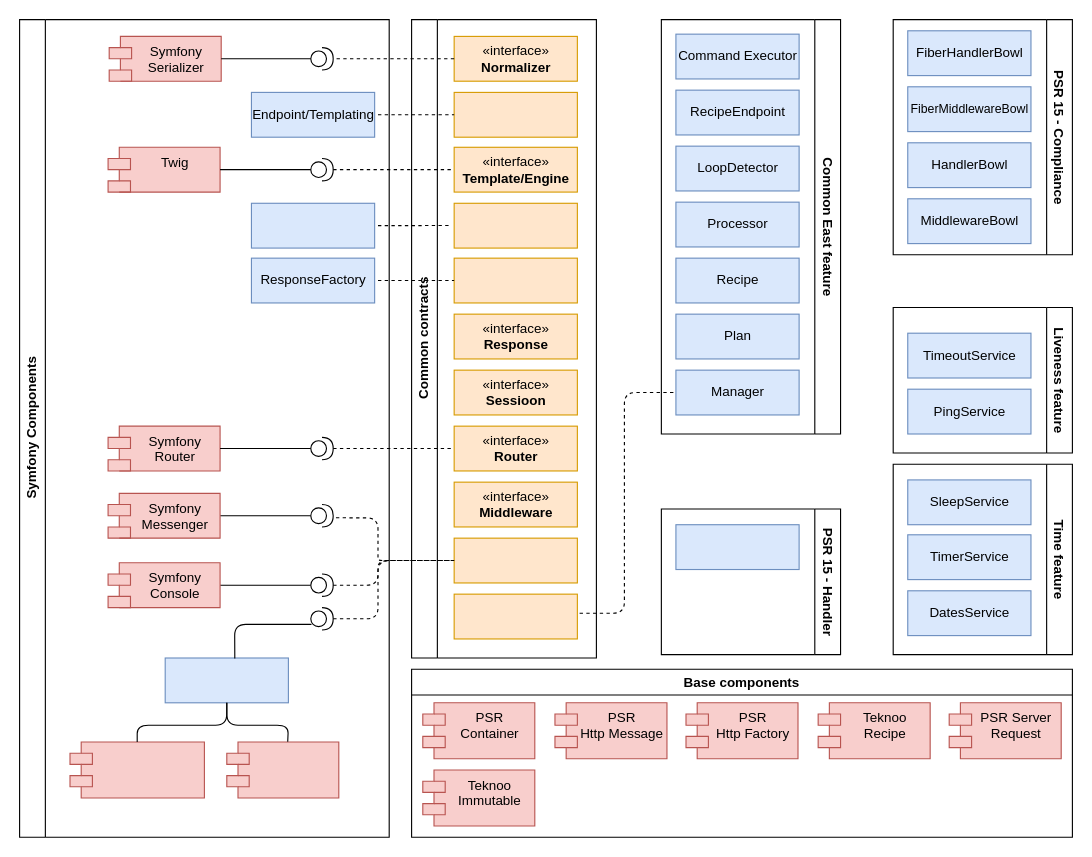
The diagram is 1092 pixels wide and 857 high, and some of its shapes have lost their labels. Here are the shapes that lost their labels. From the top down, the centre of each, then its label:
[515,114]: «interface» Rendering
[312,225]: EndPoint/Routing
[515,225]: «interface» Redirecting
[515,280]: «interface» EndPoint
[515,560]: «interface» Client
[737,547]: PSR15
[515,616]: «interface» Manager
[226,680]: KernelListener
[136,769]: Symfony Http Foundation
[282,769]: Symfony Http Kernel
